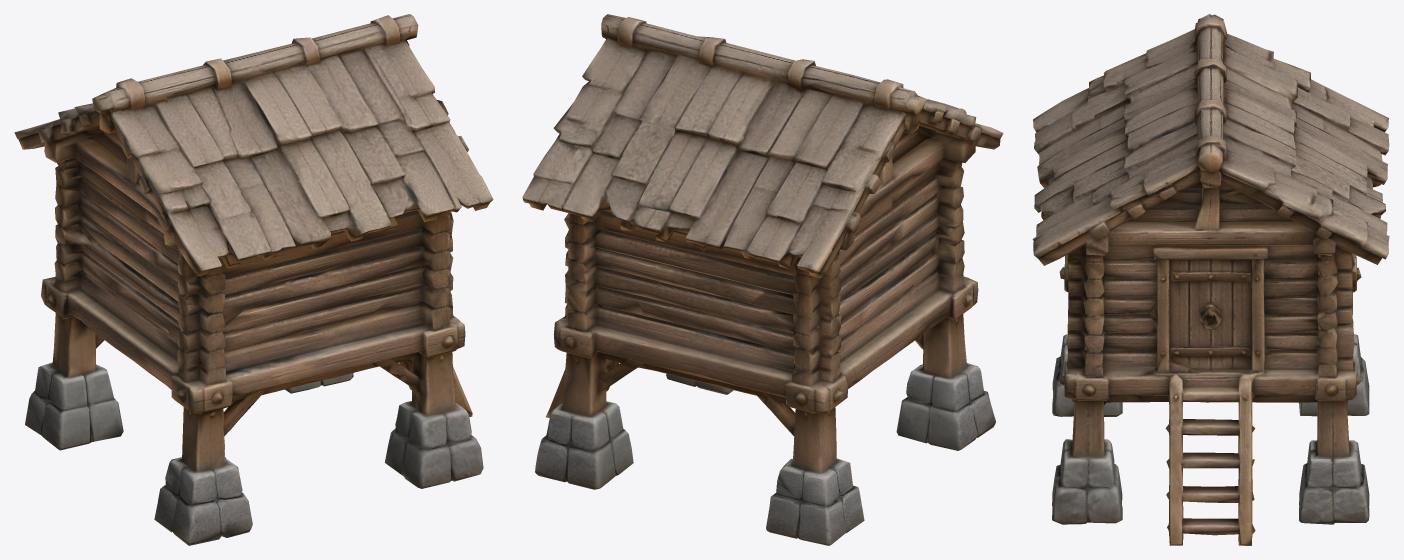
The model's file is ambar-sv1.glb.
The picture shows the model from 3 angles, left to right: view 1: azimuth 30°, elevation 25°; view 2: azimuth 150°, elevation 25°; view 3: azimuth 270°, elevation 25°; orthographic projection. The views are drawn at different scales.
Parts seen in each view (by area): view 1: tripo_node_e7db686e-0870-4860-a255-0b6198ab4f14; view 2: tripo_node_e7db686e-0870-4860-a255-0b6198ab4f14; view 3: tripo_node_e7db686e-0870-4860-a255-0b6198ab4f14.
Boxes of the visible parts, left/top/right/bottom form: tripo_node_e7db686e-0870-4860-a255-0b6198ab4f14: left=14, top=14, right=493, bottom=545; tripo_node_e7db686e-0870-4860-a255-0b6198ab4f14: left=522, top=14, right=1003, bottom=545; tripo_node_e7db686e-0870-4860-a255-0b6198ab4f14: left=1032, top=14, right=1389, bottom=545.
Size of the model in its own units: 0.9262 by 1 by 0.8533.
Materials: 1 (1 with a texture image).
